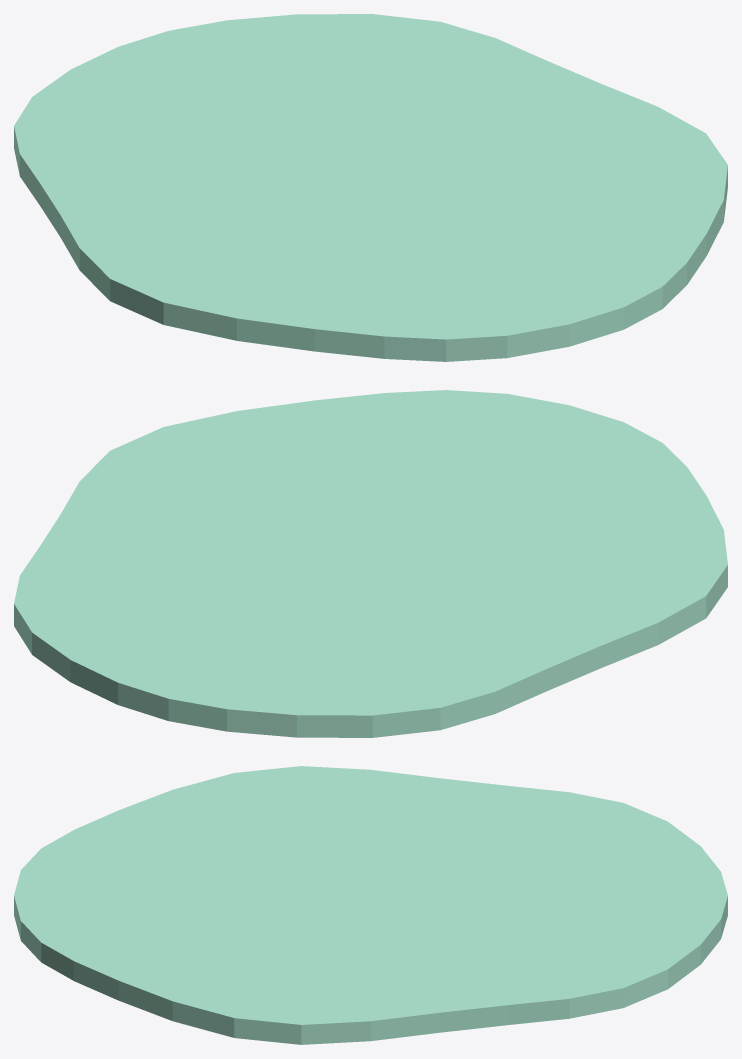
The model's file is glorb-arrival-island.glb.
The picture shows the model from 3 angles, top to bottom: view 1: azimuth 30°, elevation 25°; view 2: azimuth 150°, elevation 25°; view 3: azimuth 270°, elevation 25°; orthographic projection. The views are drawn at different scales.
Visible parts, largest first — view 1: SceneBase; view 2: SceneBase; view 3: SceneBase.
Boxes of the visible parts, x1,y1,x2,y2 form: SceneBase: [14, 14, 727, 361]; SceneBase: [14, 390, 727, 737]; SceneBase: [14, 766, 727, 1044].
Size of the model in its own units: 206 by 7.4 by 240.
